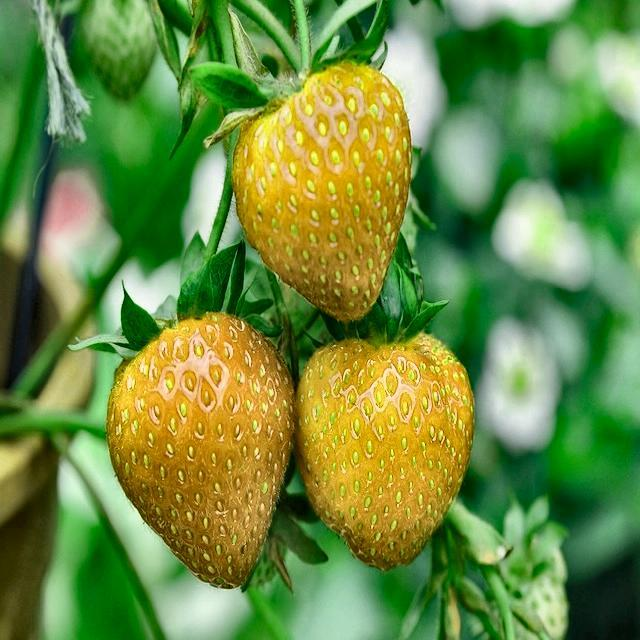strawberry: (106, 312, 294, 588), (232, 62, 411, 321), (298, 334, 474, 569)
